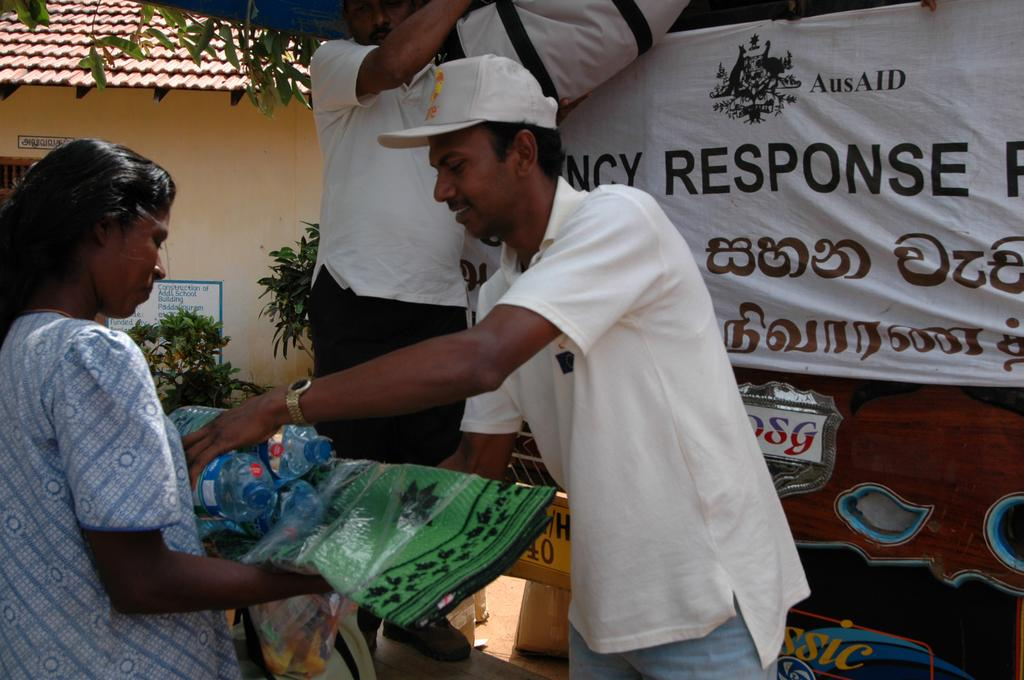Hat: (376, 50, 558, 152)
